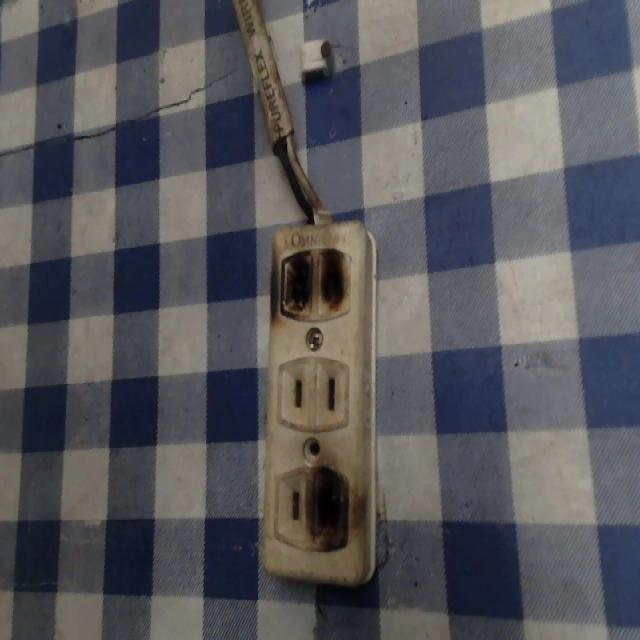-: (267, 237, 357, 327), (306, 459, 361, 553)
